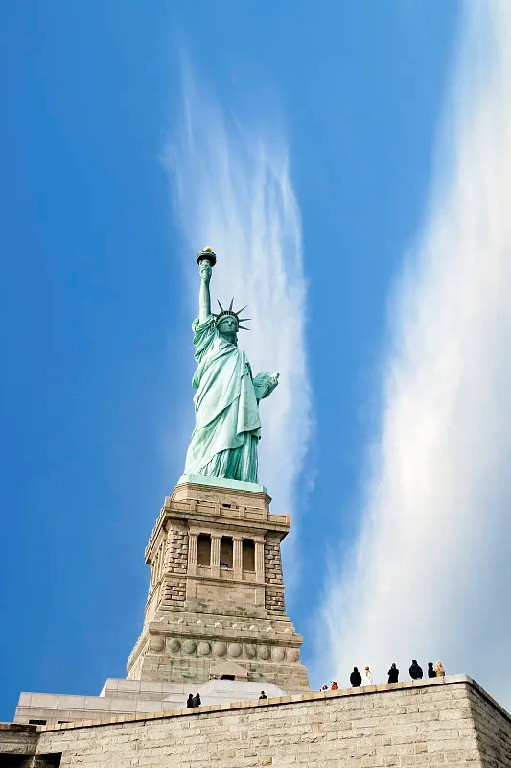SL: (125, 246, 311, 692)
